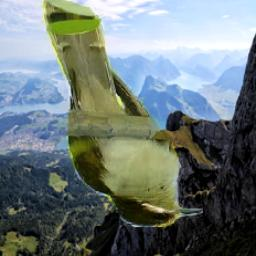Cuckoo: (42, 0, 204, 227)
